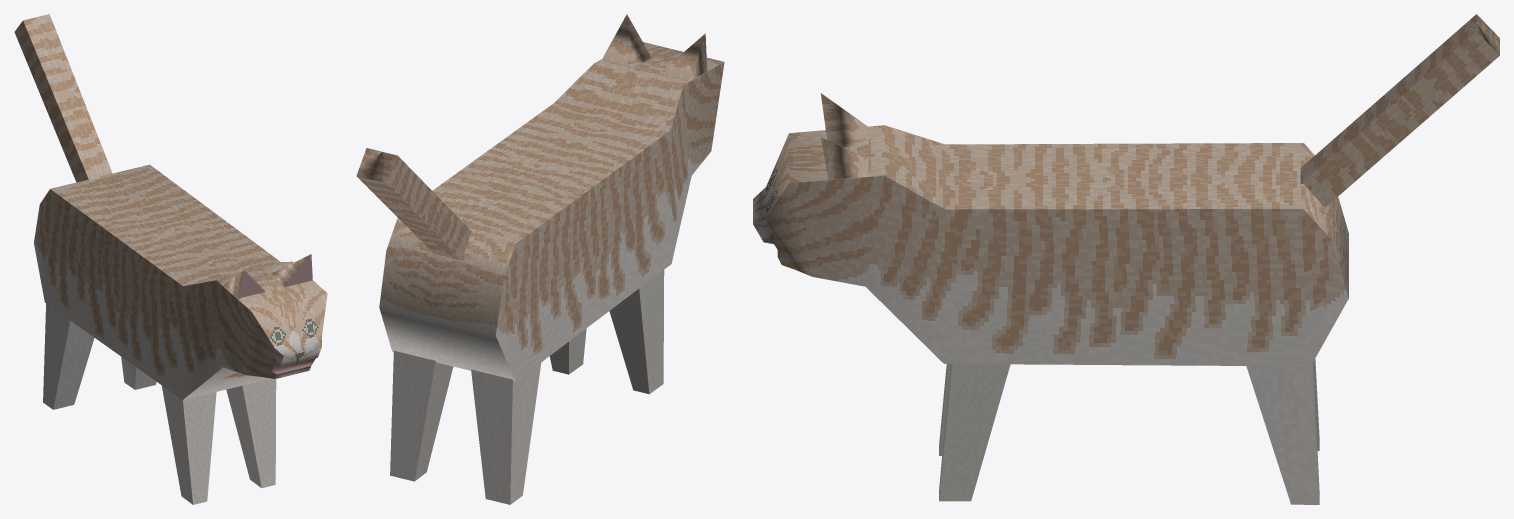
File: 01fb_Tabby_Cat.glb
The picture shows the model from 3 angles, left to right: view 1: azimuth 30°, elevation 25°; view 2: azimuth 150°, elevation 25°; view 3: azimuth 270°, elevation 25°; orthographic projection. The views are drawn at different scales.
Parts seen in each view (by area): view 1: part_0; view 2: part_0; view 3: part_0.
Boxes of the visible parts, x1=… form: part_0: x1=14, y1=14, x2=327, y2=504; part_0: x1=356, y1=14, x2=724, y2=504; part_0: x1=753, y1=14, x2=1499, y2=504.
Bounding box in the file's own units: 0.1266 × 0.3829 × 0.5742.
Materials: 1 (1 with a texture image).
